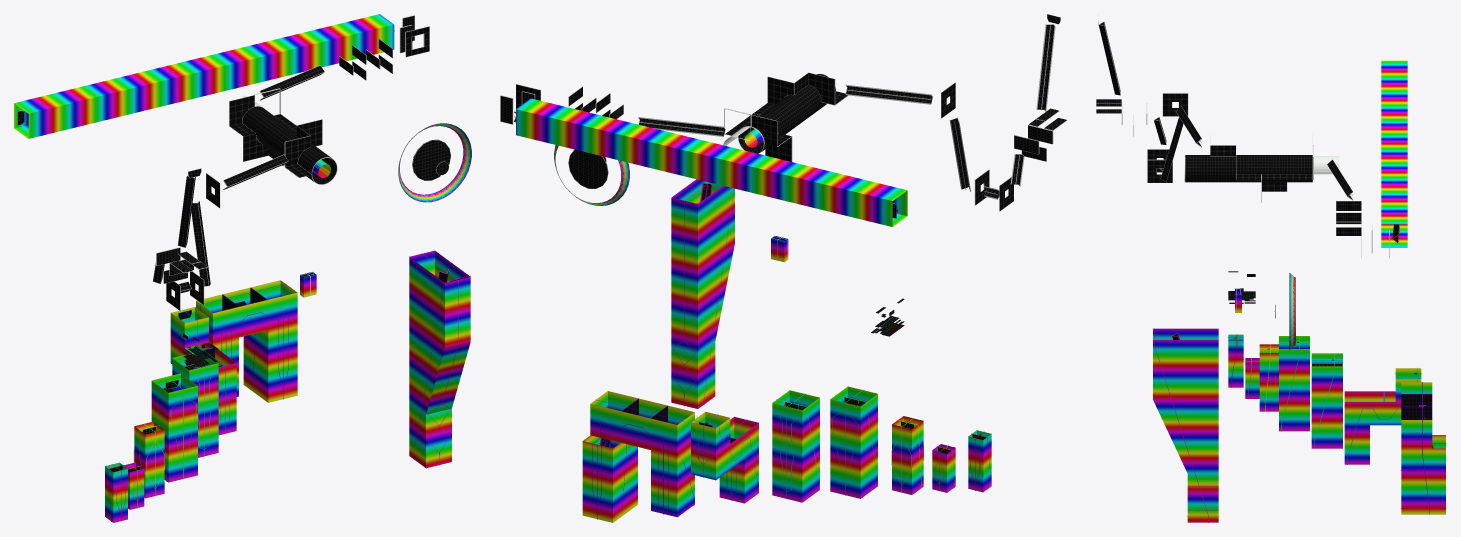
Rendered from surf_kitsune.obj.
3 views of the same model, side by side, from view 1: azimuth 30°, elevation 25°; view 2: azimuth 150°, elevation 25°; view 3: azimuth 270°, elevation 25° (orthographic). The views are drawn at different scales.
Parts seen in each view (by area): view 1: VBSP_Object.model_0, VBSP_Object.model_58, VBSP_Object.model_56, VBSP_Object.model_55, VBSP_Object.model_46, VBSP_Object.model_52, VBSP_Object.model_47, VBSP_Object.model_45, VBSP_Object.model_20, VBSP_Object.model_44, VBSP_Object.model_53; view 2: VBSP_Object.model_0, VBSP_Object.model_58, VBSP_Object.model_56, VBSP_Object.model_55, VBSP_Object.model_47, VBSP_Object.model_46, VBSP_Object.model_52, VBSP_Object.model_45, VBSP_Object.model_20, VBSP_Object.model_44, VBSP_Object.model_54; view 3: VBSP_Object.model_0, VBSP_Object.model_56, VBSP_Object.model_58, VBSP_Object.model_55, VBSP_Object.model_52, VBSP_Object.model_47, VBSP_Object.model_46, VBSP_Object.model_45, VBSP_Object.model_20, VBSP_Object.model_44.
Part boxes in pixels (box(x1,y1,x2,y2)): VBSP_Object.model_0: box(17, 15, 471, 521); VBSP_Object.model_58: box(14, 14, 394, 138); VBSP_Object.model_56: box(409, 250, 470, 468); VBSP_Object.model_55: box(196, 280, 297, 402); VBSP_Object.model_46: box(151, 373, 197, 482); VBSP_Object.model_52: box(170, 307, 236, 435); VBSP_Object.model_47: box(172, 351, 218, 457); VBSP_Object.model_45: box(134, 421, 164, 498); VBSP_Object.model_20: box(105, 462, 127, 522); VBSP_Object.model_44: box(124, 462, 144, 509); VBSP_Object.model_53: box(184, 317, 208, 347); VBSP_Object.model_0: box(500, 14, 1067, 519); VBSP_Object.model_58: box(516, 98, 907, 226); VBSP_Object.model_56: box(671, 179, 734, 408); VBSP_Object.model_55: box(582, 391, 694, 522); VBSP_Object.model_47: box(772, 390, 819, 502); VBSP_Object.model_46: box(830, 386, 877, 498); VBSP_Object.model_52: box(691, 412, 758, 502); VBSP_Object.model_45: box(892, 416, 923, 494); VBSP_Object.model_20: box(968, 430, 991, 492); VBSP_Object.model_44: box(932, 444, 955, 492); VBSP_Object.model_54: box(719, 459, 744, 503); VBSP_Object.model_0: box(1096, 14, 1446, 522); VBSP_Object.model_56: box(1153, 328, 1218, 522); VBSP_Object.model_58: box(1381, 60, 1407, 247); VBSP_Object.model_55: box(1401, 382, 1445, 514); VBSP_Object.model_52: box(1344, 368, 1421, 464); VBSP_Object.model_47: box(1311, 353, 1342, 448); VBSP_Object.model_46: box(1279, 336, 1309, 431); VBSP_Object.model_45: box(1259, 344, 1278, 411); VBSP_Object.model_20: box(1228, 334, 1243, 387); VBSP_Object.model_44: box(1245, 358, 1259, 398).
Bounding box in the file's own units: 31278 × 31312 × 26336.
30 materials, 30 textured.
